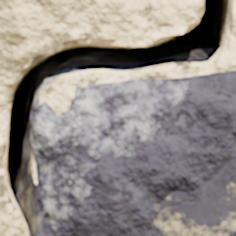brick: (32, 71, 235, 235)
crack: (2, 0, 233, 235)
